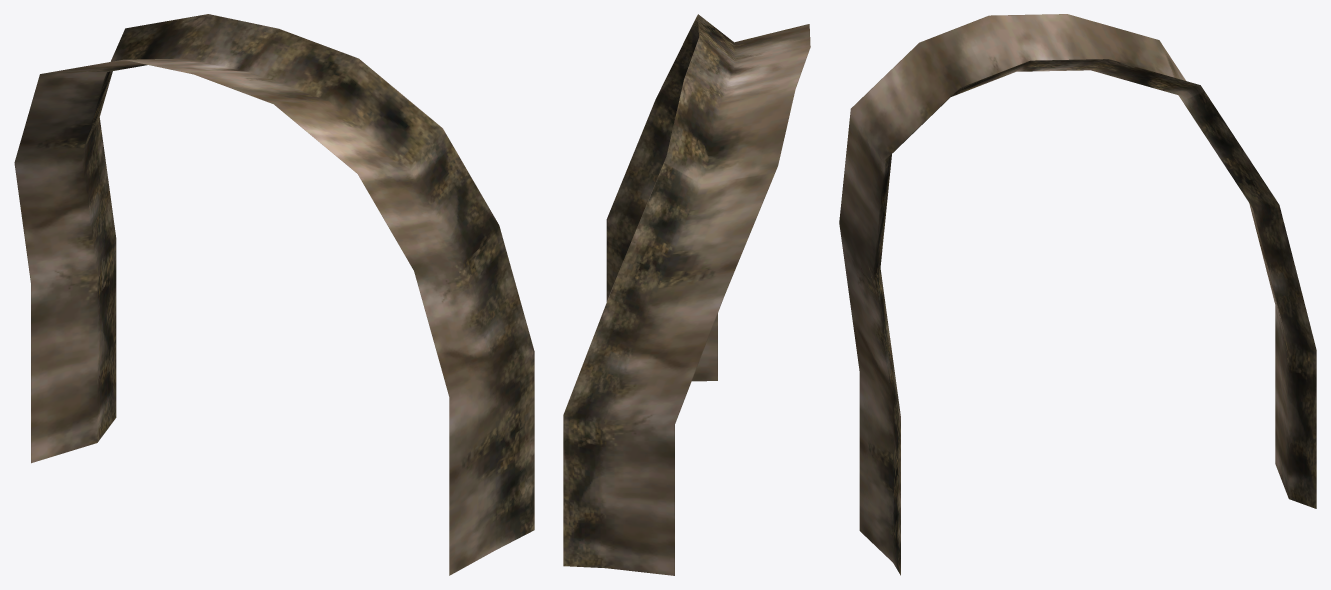
The model's file is OVERHILL_A_01_LINE66.fbx.
3 views of the same model, side by side, from view 1: azimuth 30°, elevation 25°; view 2: azimuth 150°, elevation 25°; view 3: azimuth 270°, elevation 25° (orthographic). The views are drawn at different scales.
Parts seen in each view (by area): view 1: OVERHILL_A_01_LINE66; view 2: OVERHILL_A_01_LINE66; view 3: OVERHILL_A_01_LINE66.
Boxes of the visible parts, left/top/right/bottom form: OVERHILL_A_01_LINE66: left=14, top=14, right=534, bottom=575; OVERHILL_A_01_LINE66: left=563, top=14, right=810, bottom=575; OVERHILL_A_01_LINE66: left=839, top=14, right=1316, bottom=575.
Size of the model in its own units: 15754 by 22110 by 21079.
Materials: 1 (1 with a texture image).
